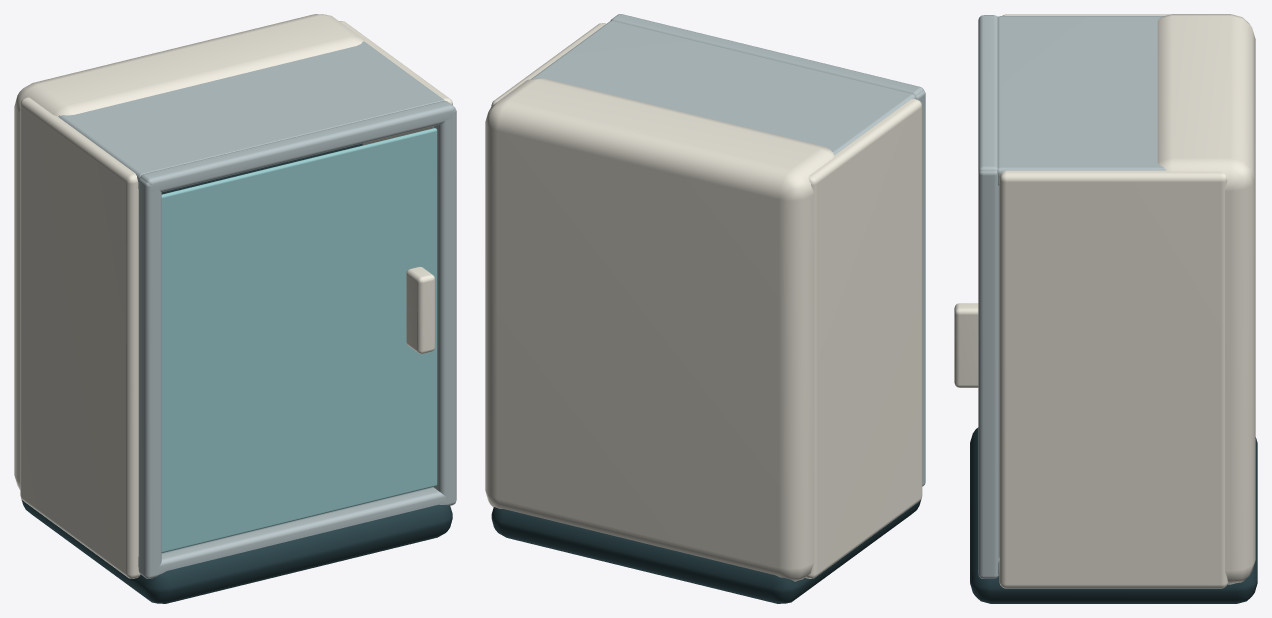
File: specimen-cabinet.glb
The picture shows the model from 3 angles, left to right: view 1: azimuth 30°, elevation 25°; view 2: azimuth 150°, elevation 25°; view 3: azimuth 270°, elevation 25°; orthographic projection. The views are drawn at different scales.
Parts seen in each view (by area): view 1: Door frosted glass, Side cheek, Shelf.001, Cabinet body, Floating foot, Door frame, Door frame.001, Door frame.003, Door frame.002, Door ceramic grip, Side cheek.001; view 2: Cabinet body, Side cheek, Shelf.001, Floating foot, Door frame.003, Door frame, Side cheek.001; view 3: Side cheek.001, Cabinet body, Shelf.001, Door frame.001, Floating foot, Door frame.003, Door ceramic grip.
Part boxes in pixels (box(x1,y1,x2,y2)): Door frosted glass: box(161, 128, 437, 552); Side cheek: box(20, 97, 140, 578); Shelf.001: box(58, 41, 444, 188); Cabinet body: box(14, 14, 364, 489); Floating foot: box(21, 499, 452, 603); Door frame: box(138, 177, 161, 578); Door frame.001: box(433, 107, 456, 505); Door frame.003: box(140, 101, 454, 192); Door frame.002: box(152, 487, 451, 578); Door ceramic grip: box(406, 266, 435, 353); Side cheek.001: box(339, 21, 452, 145); Cabinet body: box(485, 78, 834, 581); Side cheek: box(805, 98, 922, 578); Shelf.001: box(531, 21, 916, 155); Floating foot: box(491, 499, 921, 603); Door frame.003: box(611, 14, 923, 95); Door frame: box(916, 90, 925, 486); Side cheek.001: box(491, 23, 606, 106); Side cheek.001: box(999, 170, 1227, 588); Cabinet body: box(1157, 14, 1255, 584); Shelf.001: box(997, 16, 1165, 185); Door frame.001: box(978, 171, 999, 578); Floating foot: box(970, 427, 1257, 603); Door frame.003: box(978, 15, 997, 172); Door ceramic grip: box(954, 303, 978, 387).
Bounding box in the file's own units: 1.86 × 2.37 × 1.45.
